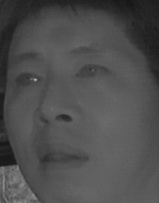eye: (74, 62, 112, 84), (13, 69, 44, 91)
mouth: (33, 140, 90, 174)
